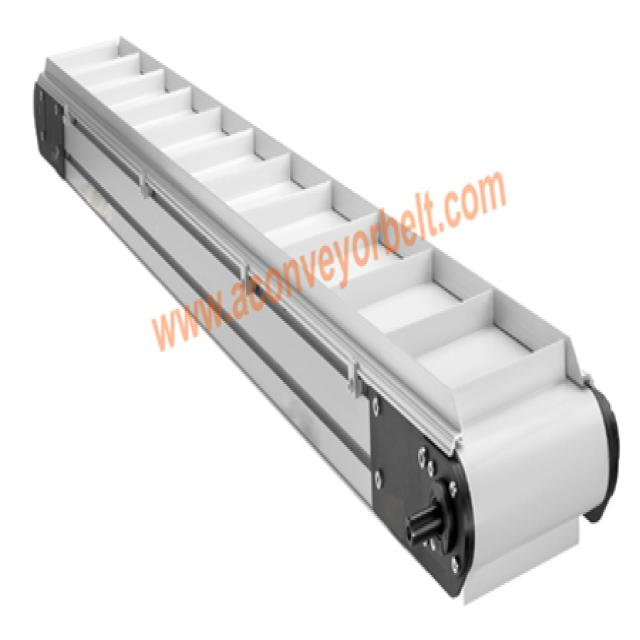conveyor: (32, 15, 621, 602)
